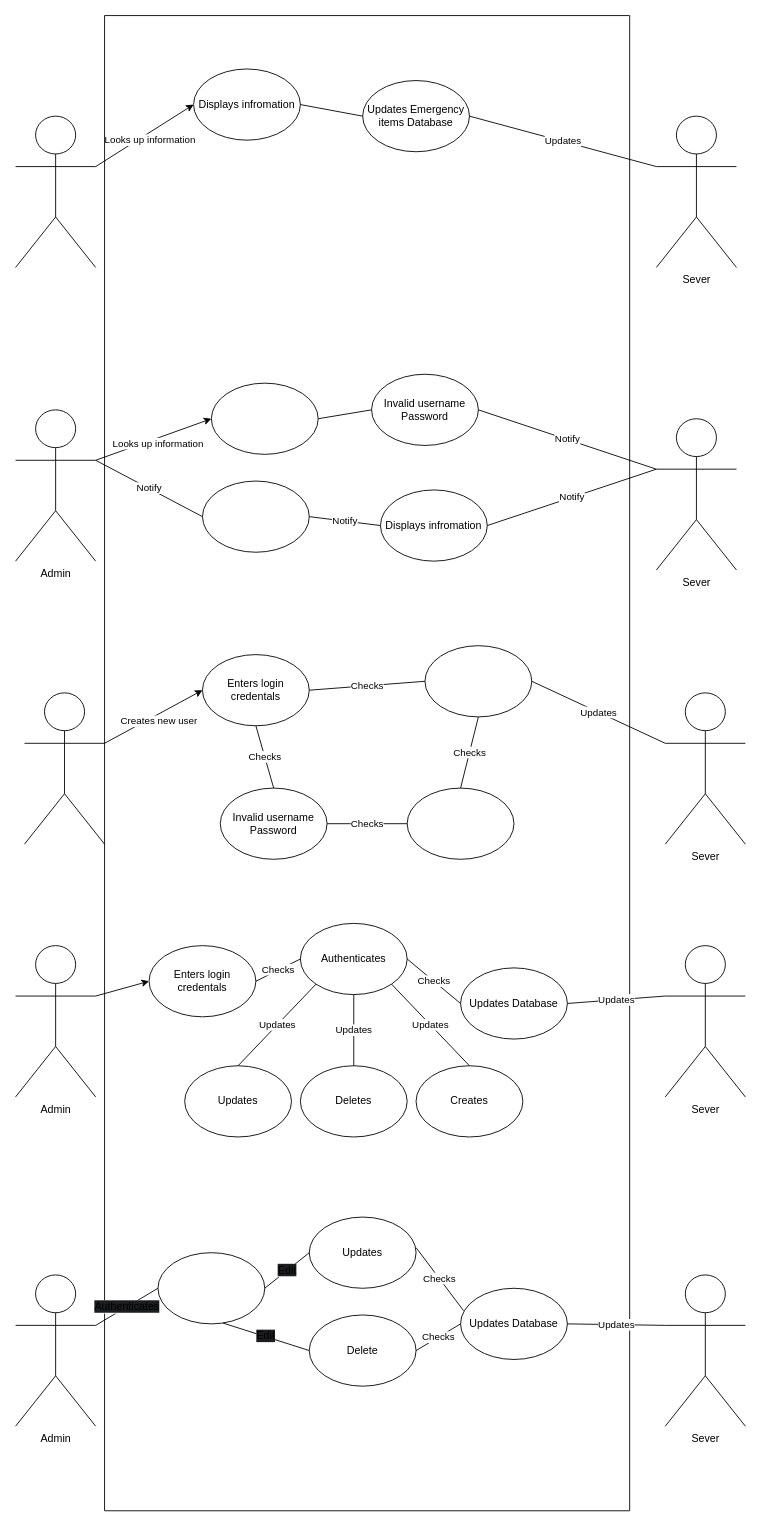
This 761x1526 diagram has some shape labels left out. Here are the shapes that lost their labels. From the top down, the centre of each, then its label:
At point 55,191: "User".
At point 264,418: "Authenticate".
At point 255,516: "Sends notifcation".
At point 478,681: "Updates user database".
At point 64,768: "New User".
At point 460,823: "Error Occurred".
At point 211,1288: "Edit records".
